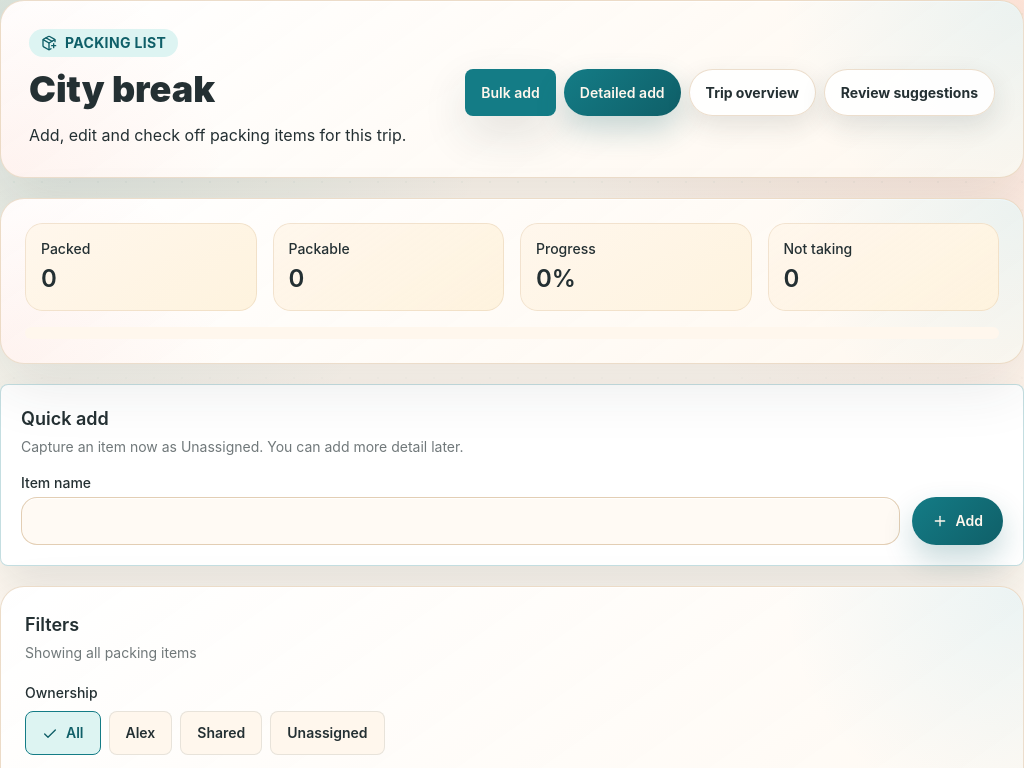
Test case: PackingListScreen › opens bulk add with a specific close label and brings the panel into view
Step 1. Click the button "Bulk add" → (511, 92), box [465, 69, 556, 116]
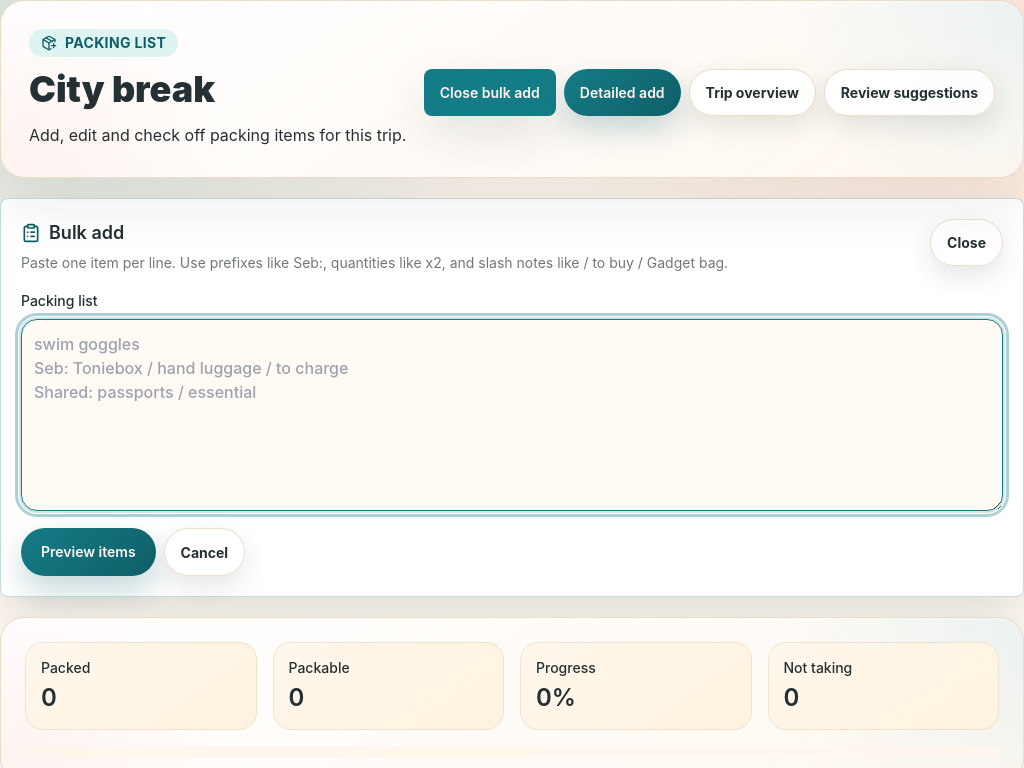
Expected: the button "Close bulk add" is shown, [424, 69, 556, 116]
